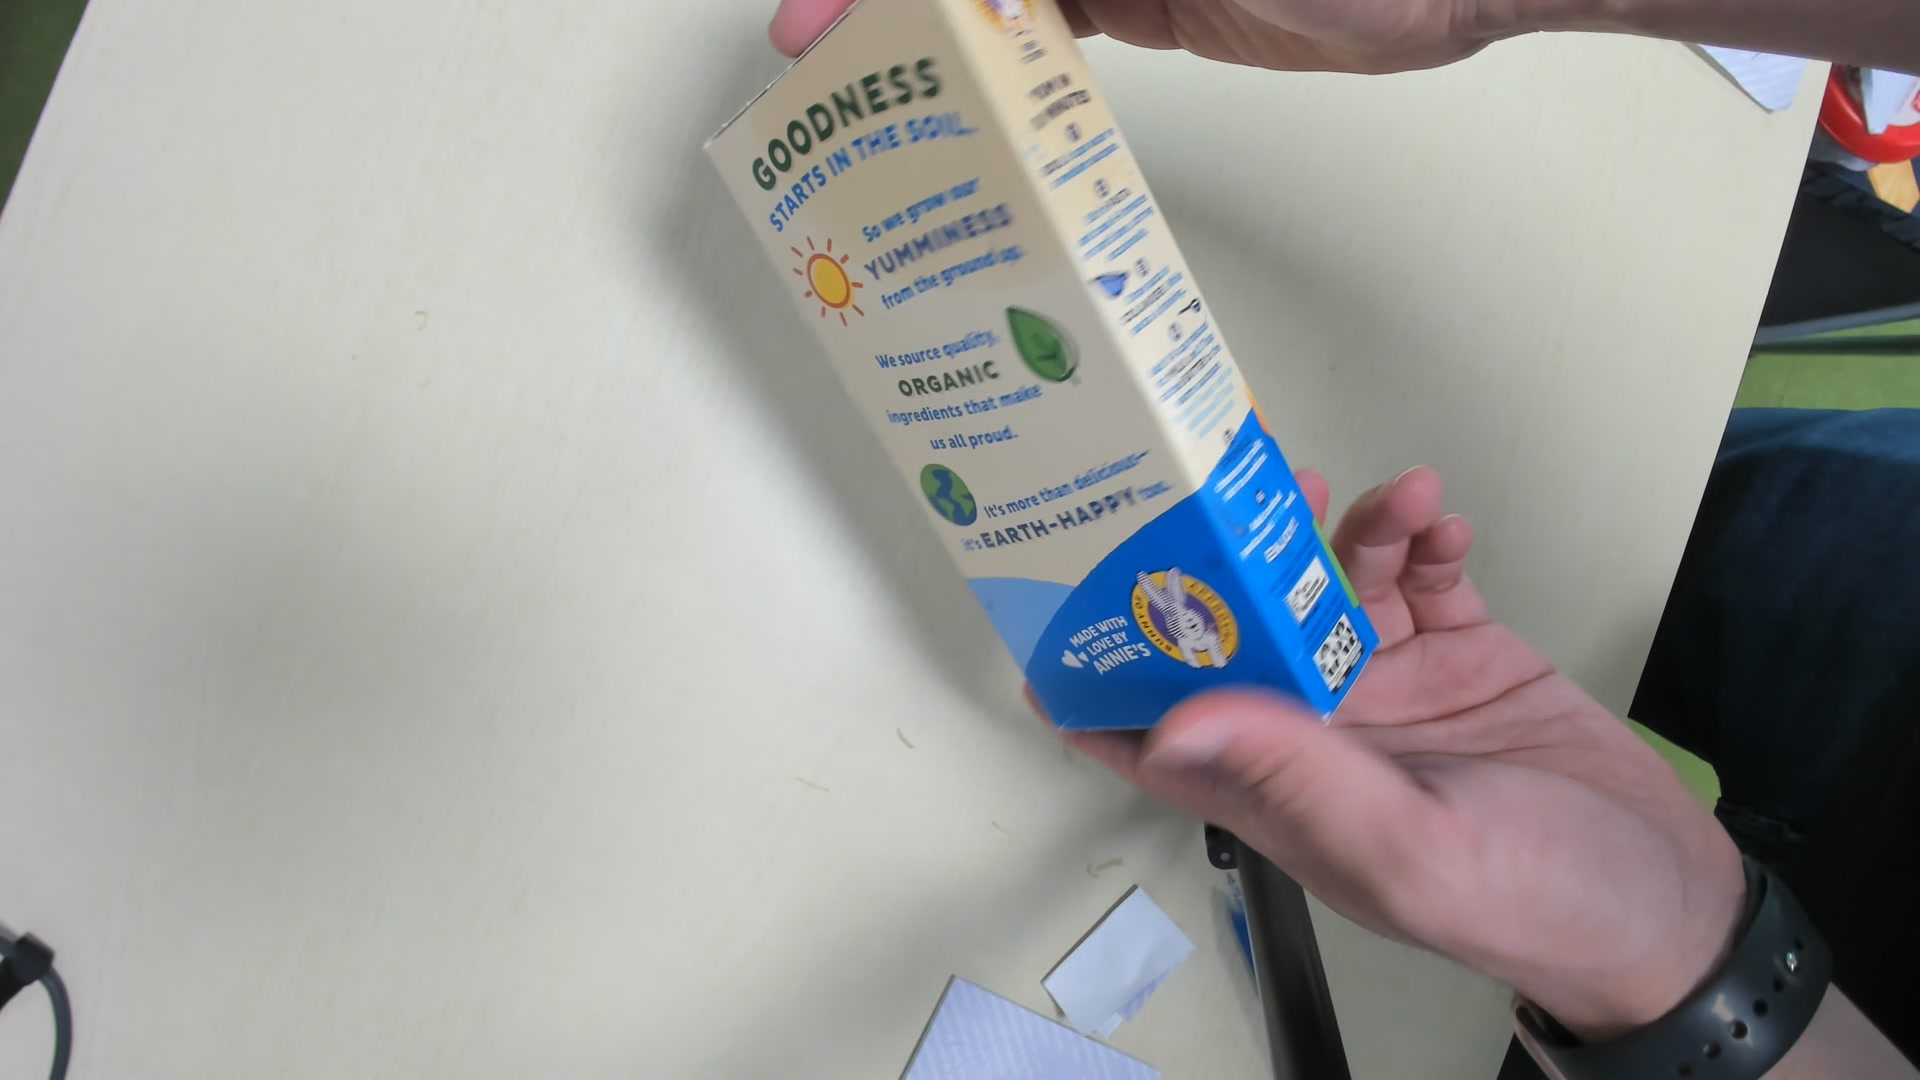InstantMeals_100_199g_NonHalal_NonHealthy: (700, 1, 1377, 740)
